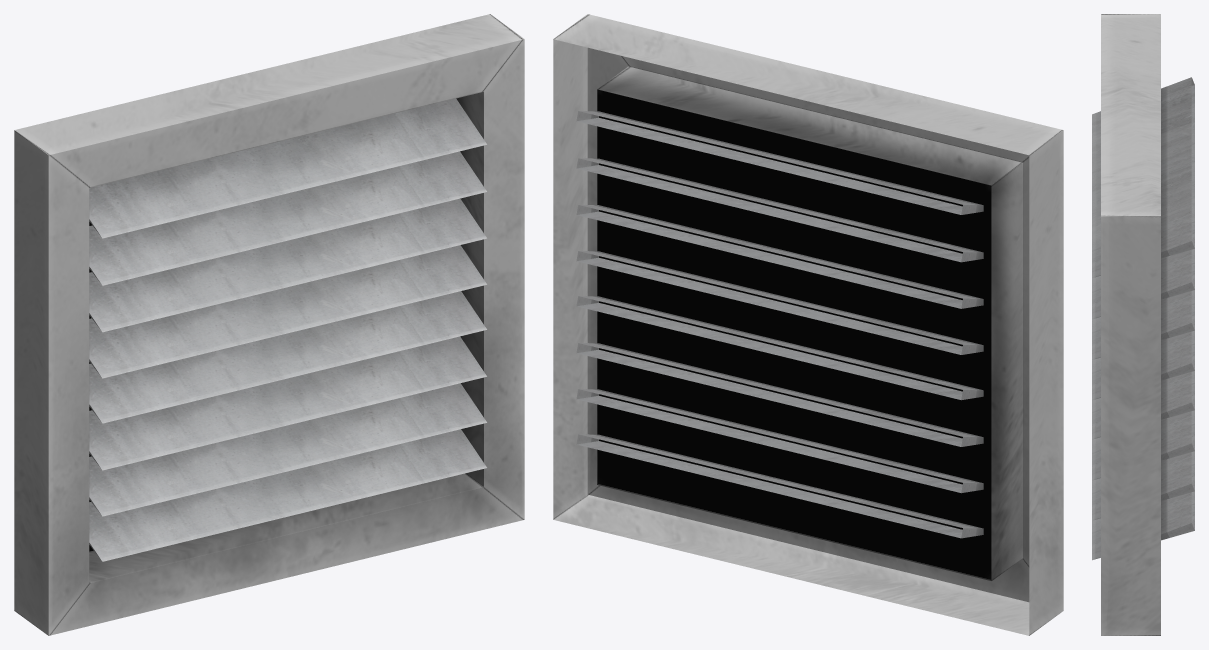
The model's file is vent.FBX.
3 renders of one model, left to right at view 1: azimuth 30°, elevation 25°; view 2: azimuth 150°, elevation 25°; view 3: azimuth 270°, elevation 25°, orthographic. The views are drawn at different scales.
Parts seen in each view (by area): view 1: vent; view 2: vent; view 3: vent.
Boxes of the visible parts, box(x1,y1,x2,y2) form: vent: box(14, 14, 524, 635); vent: box(553, 14, 1063, 635); vent: box(1092, 14, 1194, 635).
Bounding box in the file's own units: 93.14 × 89.84 × 19.97.
